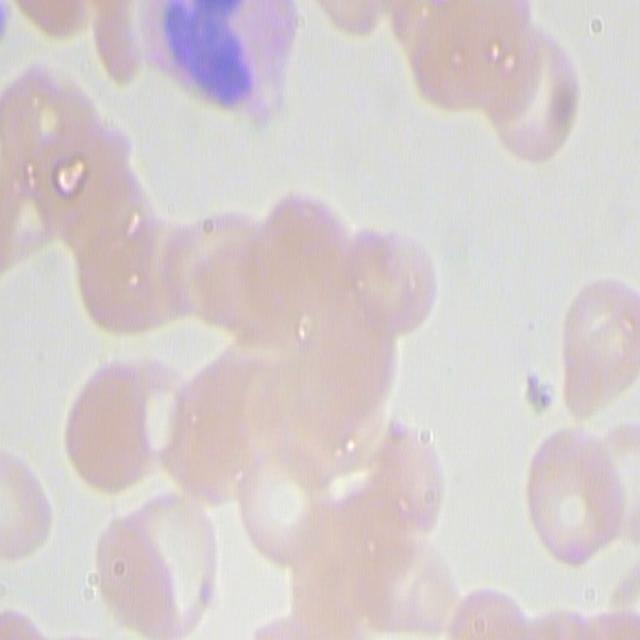RBC: (299, 428, 463, 640), (390, 0, 578, 159), (59, 129, 175, 348), (91, 490, 223, 640), (65, 348, 186, 498), (518, 423, 627, 574), (480, 2, 580, 166), (230, 443, 330, 565), (552, 279, 640, 417), (0, 445, 50, 567), (10, 0, 98, 43)
